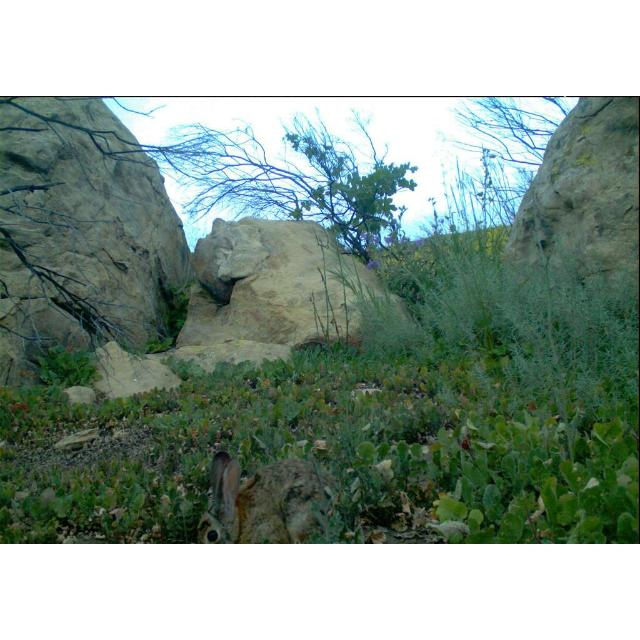animals: (193, 443, 331, 545)
